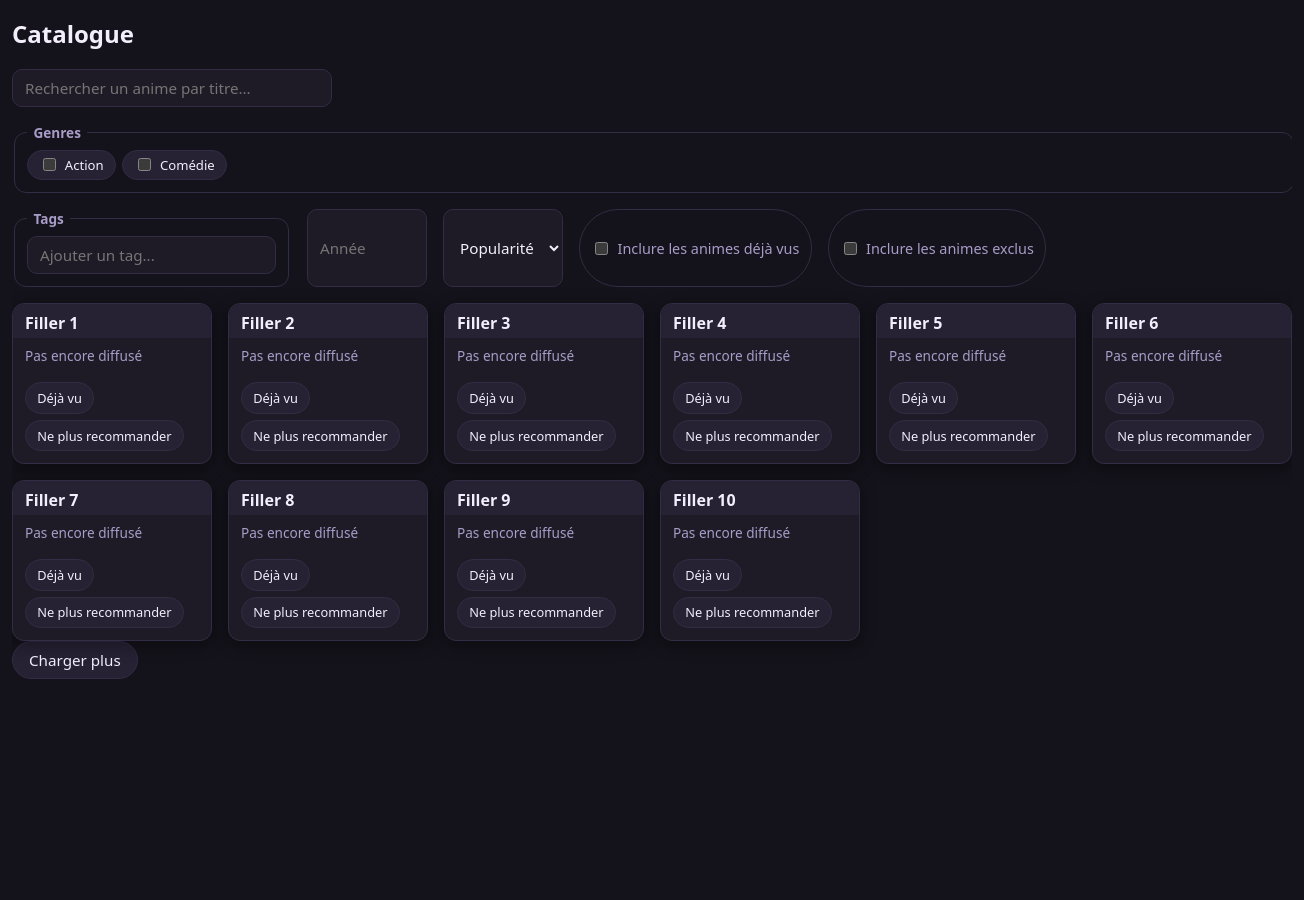
Test: Catalogue › appends the next page when "Charger plus" is clicked
Check: the heading "Filler 1" is shown, box x1=25 y1=312 x2=78 y2=334
Click the button "Charger plus" at {"x": 75, "y": 660}, box x1=12 y1=641 x2=138 y2=679
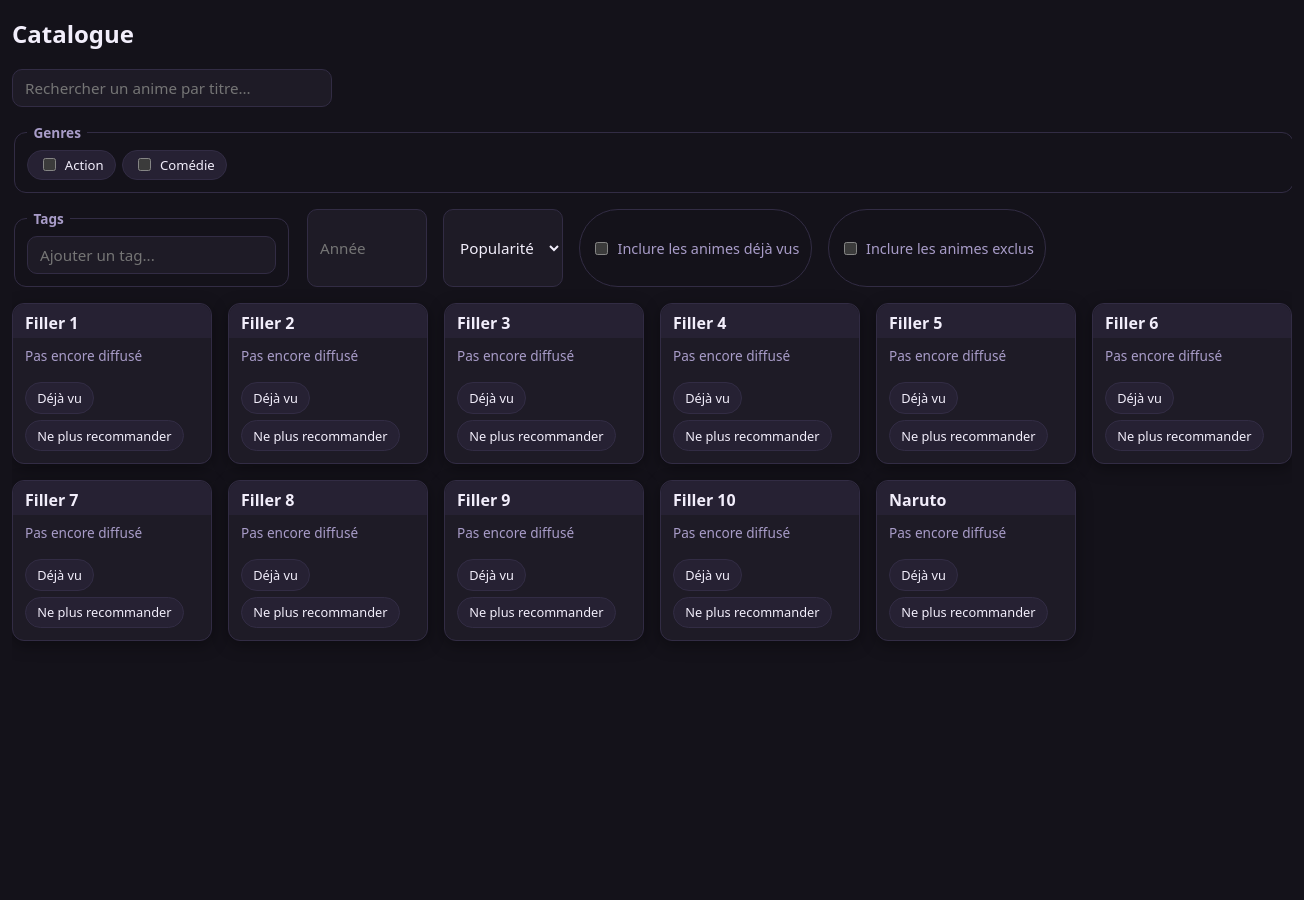
Check: the heading "Filler 1" is shown, box x1=25 y1=312 x2=78 y2=334
Check: the heading "Naruto" is shown, box x1=889 y1=489 x2=946 y2=511
